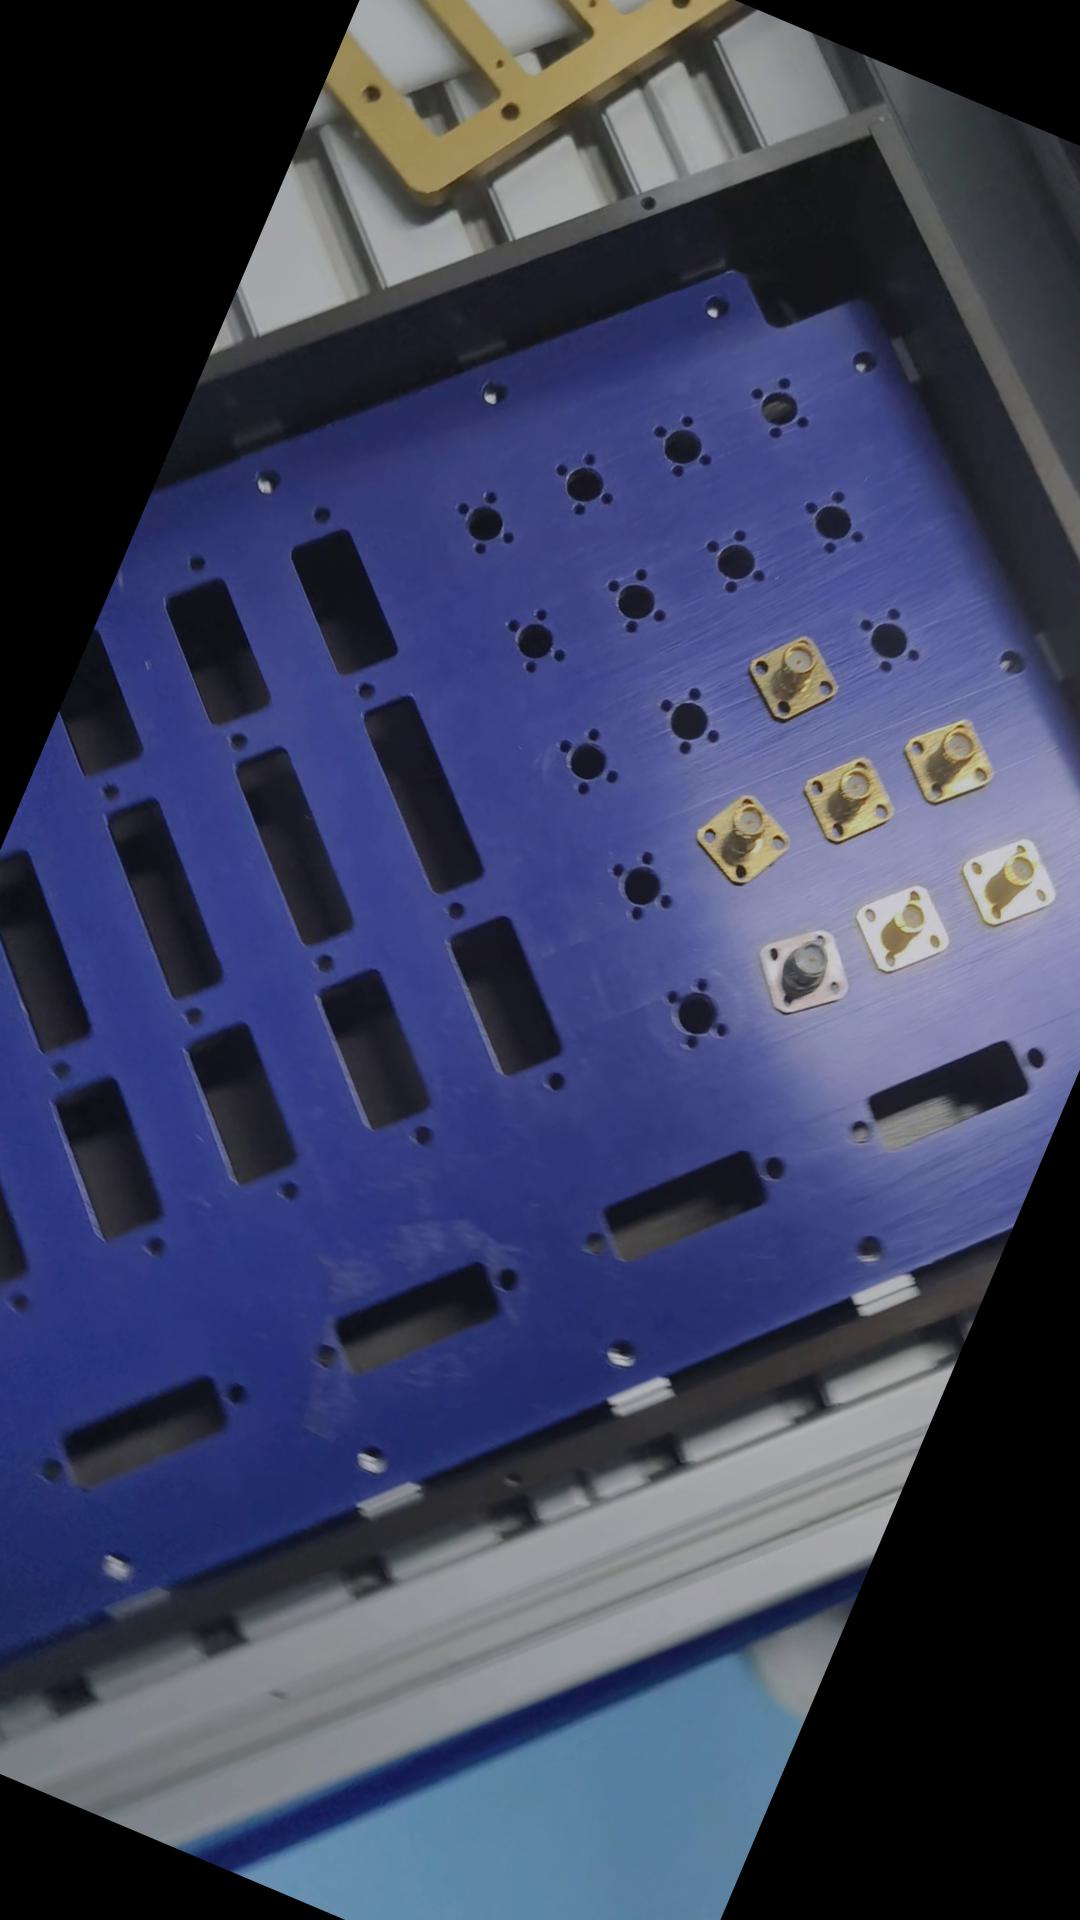SMA: (944, 816, 1073, 944), (783, 735, 905, 858), (741, 905, 865, 1026), (837, 865, 963, 985), (889, 702, 1007, 819), (680, 778, 800, 894), (735, 617, 851, 732)
